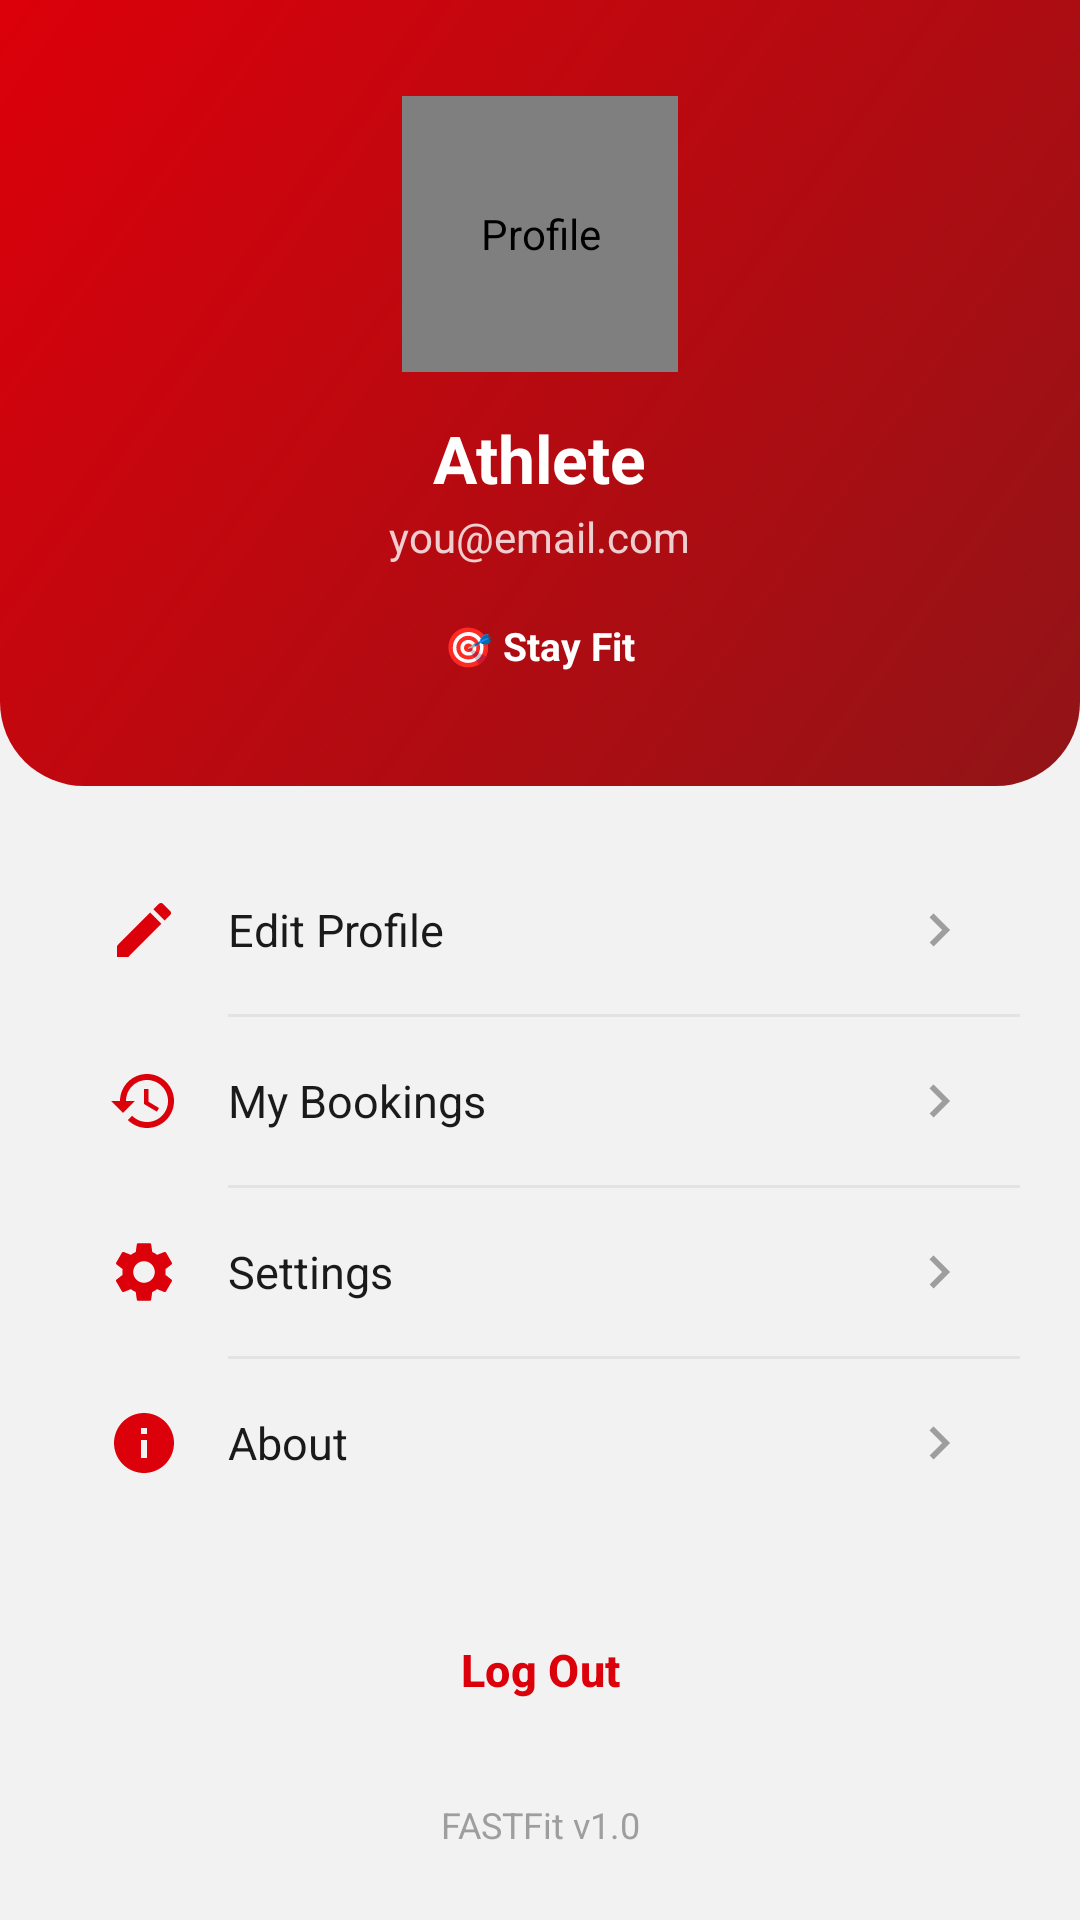

Icon click points for this 1080 × 1920 phone screenshot, format [x,y]:
chevron right: [940,929], [940,1100], [940,1271], [940,1442]
history: [142,1101]
info: [144,1443]
